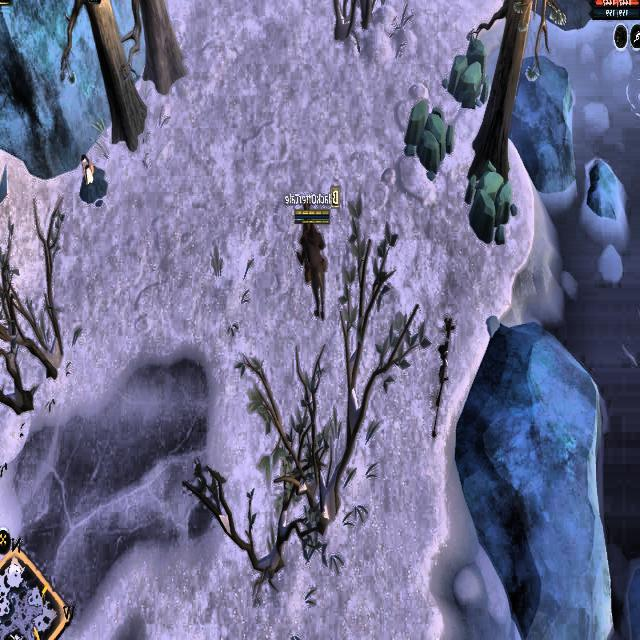copperore: (74, 146, 111, 206)
sandstone: (465, 156, 520, 244), (406, 94, 454, 176), (445, 39, 492, 112)
